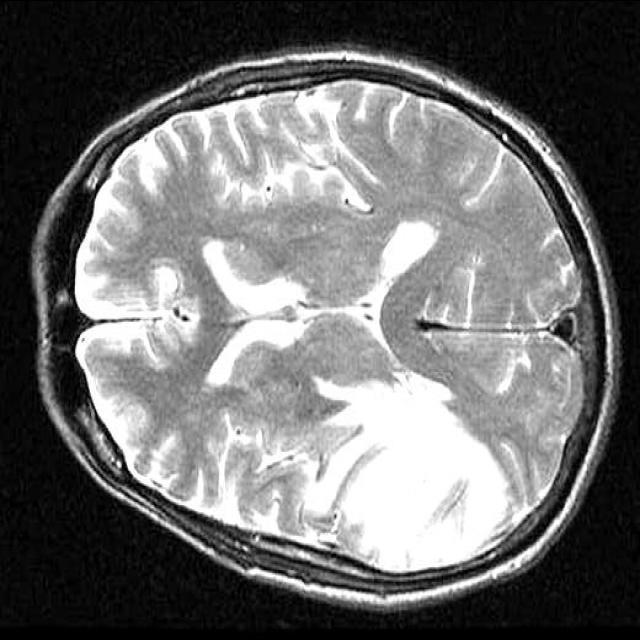tumor: (310, 381, 508, 571)
